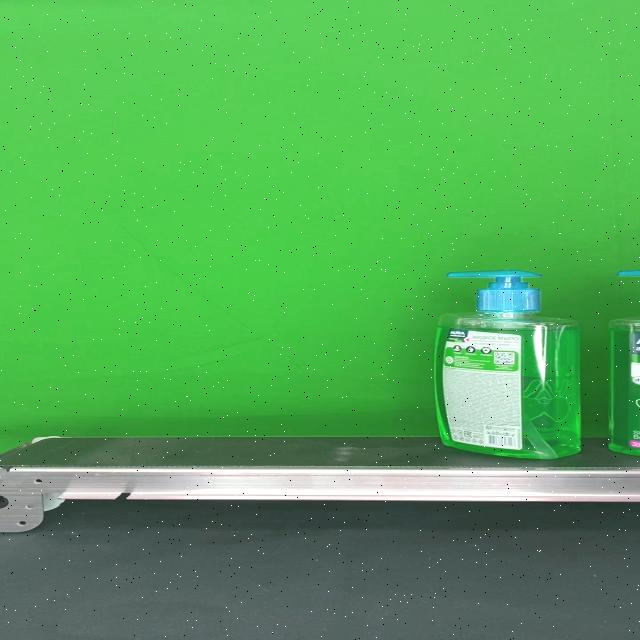Bottle: (433, 271, 581, 458)
Cap: (446, 270, 542, 312)
